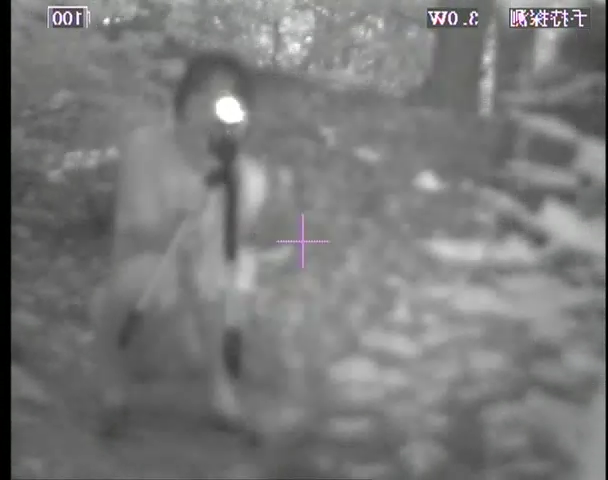my: (215, 93, 246, 124)
